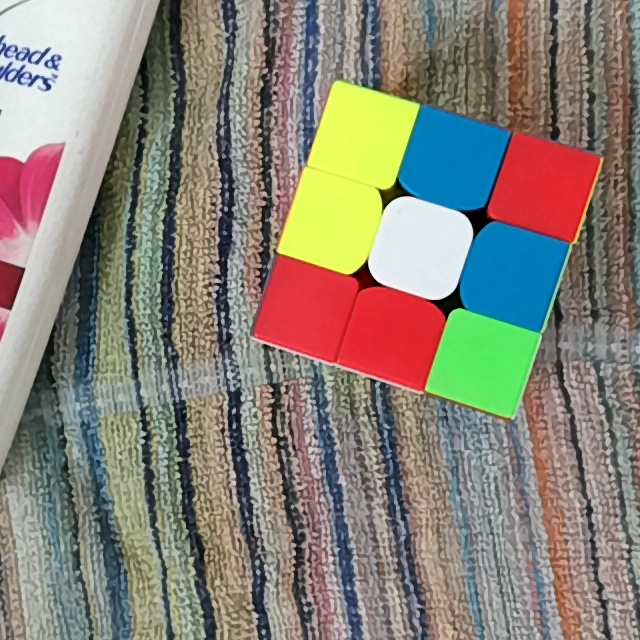tile: (331, 100, 397, 173), (448, 330, 518, 397), (511, 154, 580, 221), (418, 129, 484, 199), (480, 237, 546, 306), (357, 305, 428, 367), (385, 217, 453, 281), (273, 274, 341, 337), (300, 189, 364, 255)
